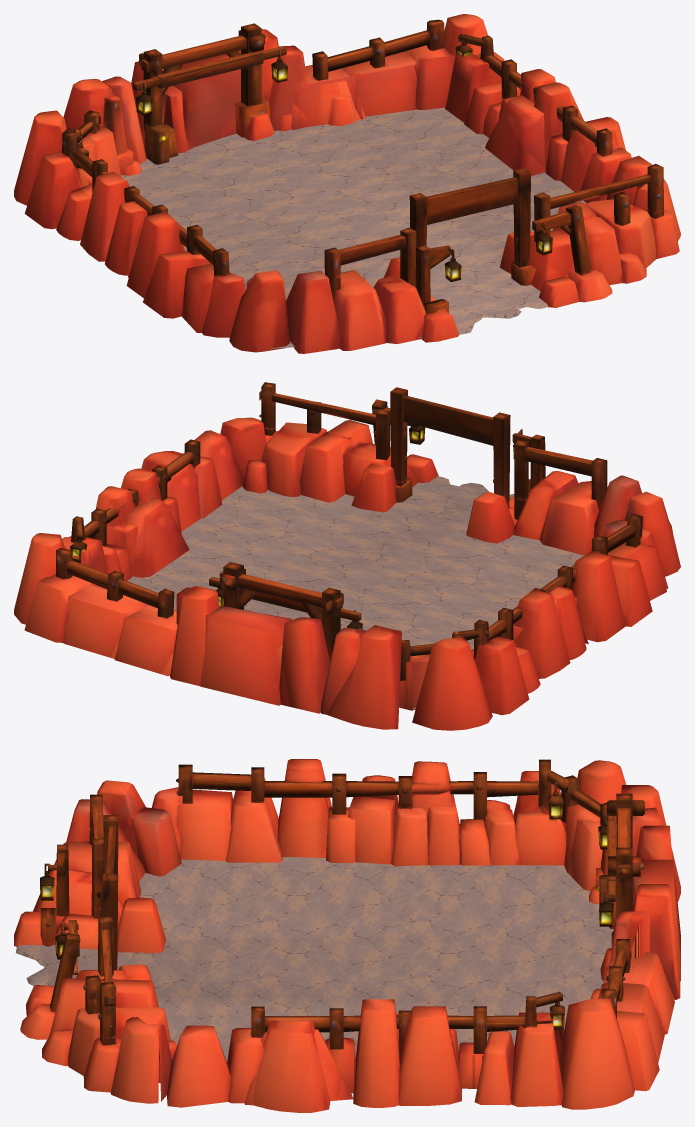
File: mining-pool.glb
The picture shows the model from 3 angles, top to bottom: view 1: azimuth 30°, elevation 25°; view 2: azimuth 150°, elevation 25°; view 3: azimuth 270°, elevation 25°; orthographic projection. The views are drawn at different scales.
Parts seen in each view (by area): view 1: Mining_pool, Mining_pool.001; view 2: Mining_pool, Mining_pool.001; view 3: Mining_pool, Mining_pool.001.
Part boxes in pixels (box(x1,y1,x2,y2)): Mining_pool: box(14, 14, 680, 353); Mining_pool.001: box(121, 107, 586, 348); Mining_pool: box(14, 382, 680, 730); Mining_pool.001: box(127, 476, 584, 708); Mining_pool: box(14, 759, 680, 1112); Mining_pool.001: box(16, 857, 613, 1073).
Size of what is drawn, in the model's own units: 29.93 by 6.53 by 29.82.
Materials: 2 (2 with a texture image).
